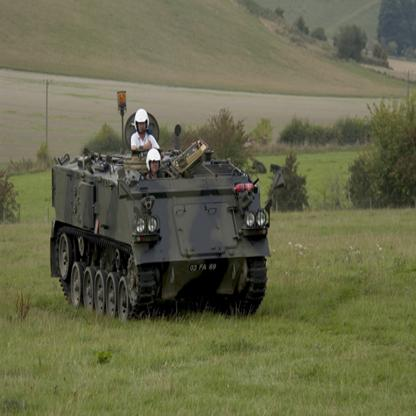Tank: (37, 108, 276, 326)
